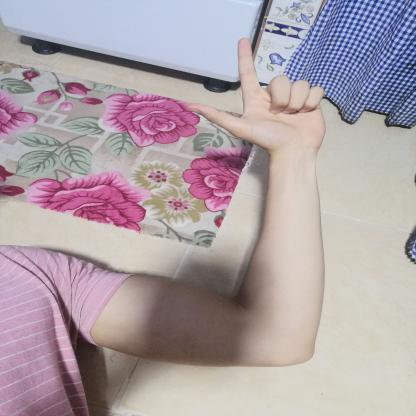LAAM: (175, 29, 339, 164)
